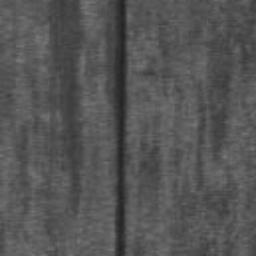Scratches: (115, 0, 127, 256)
